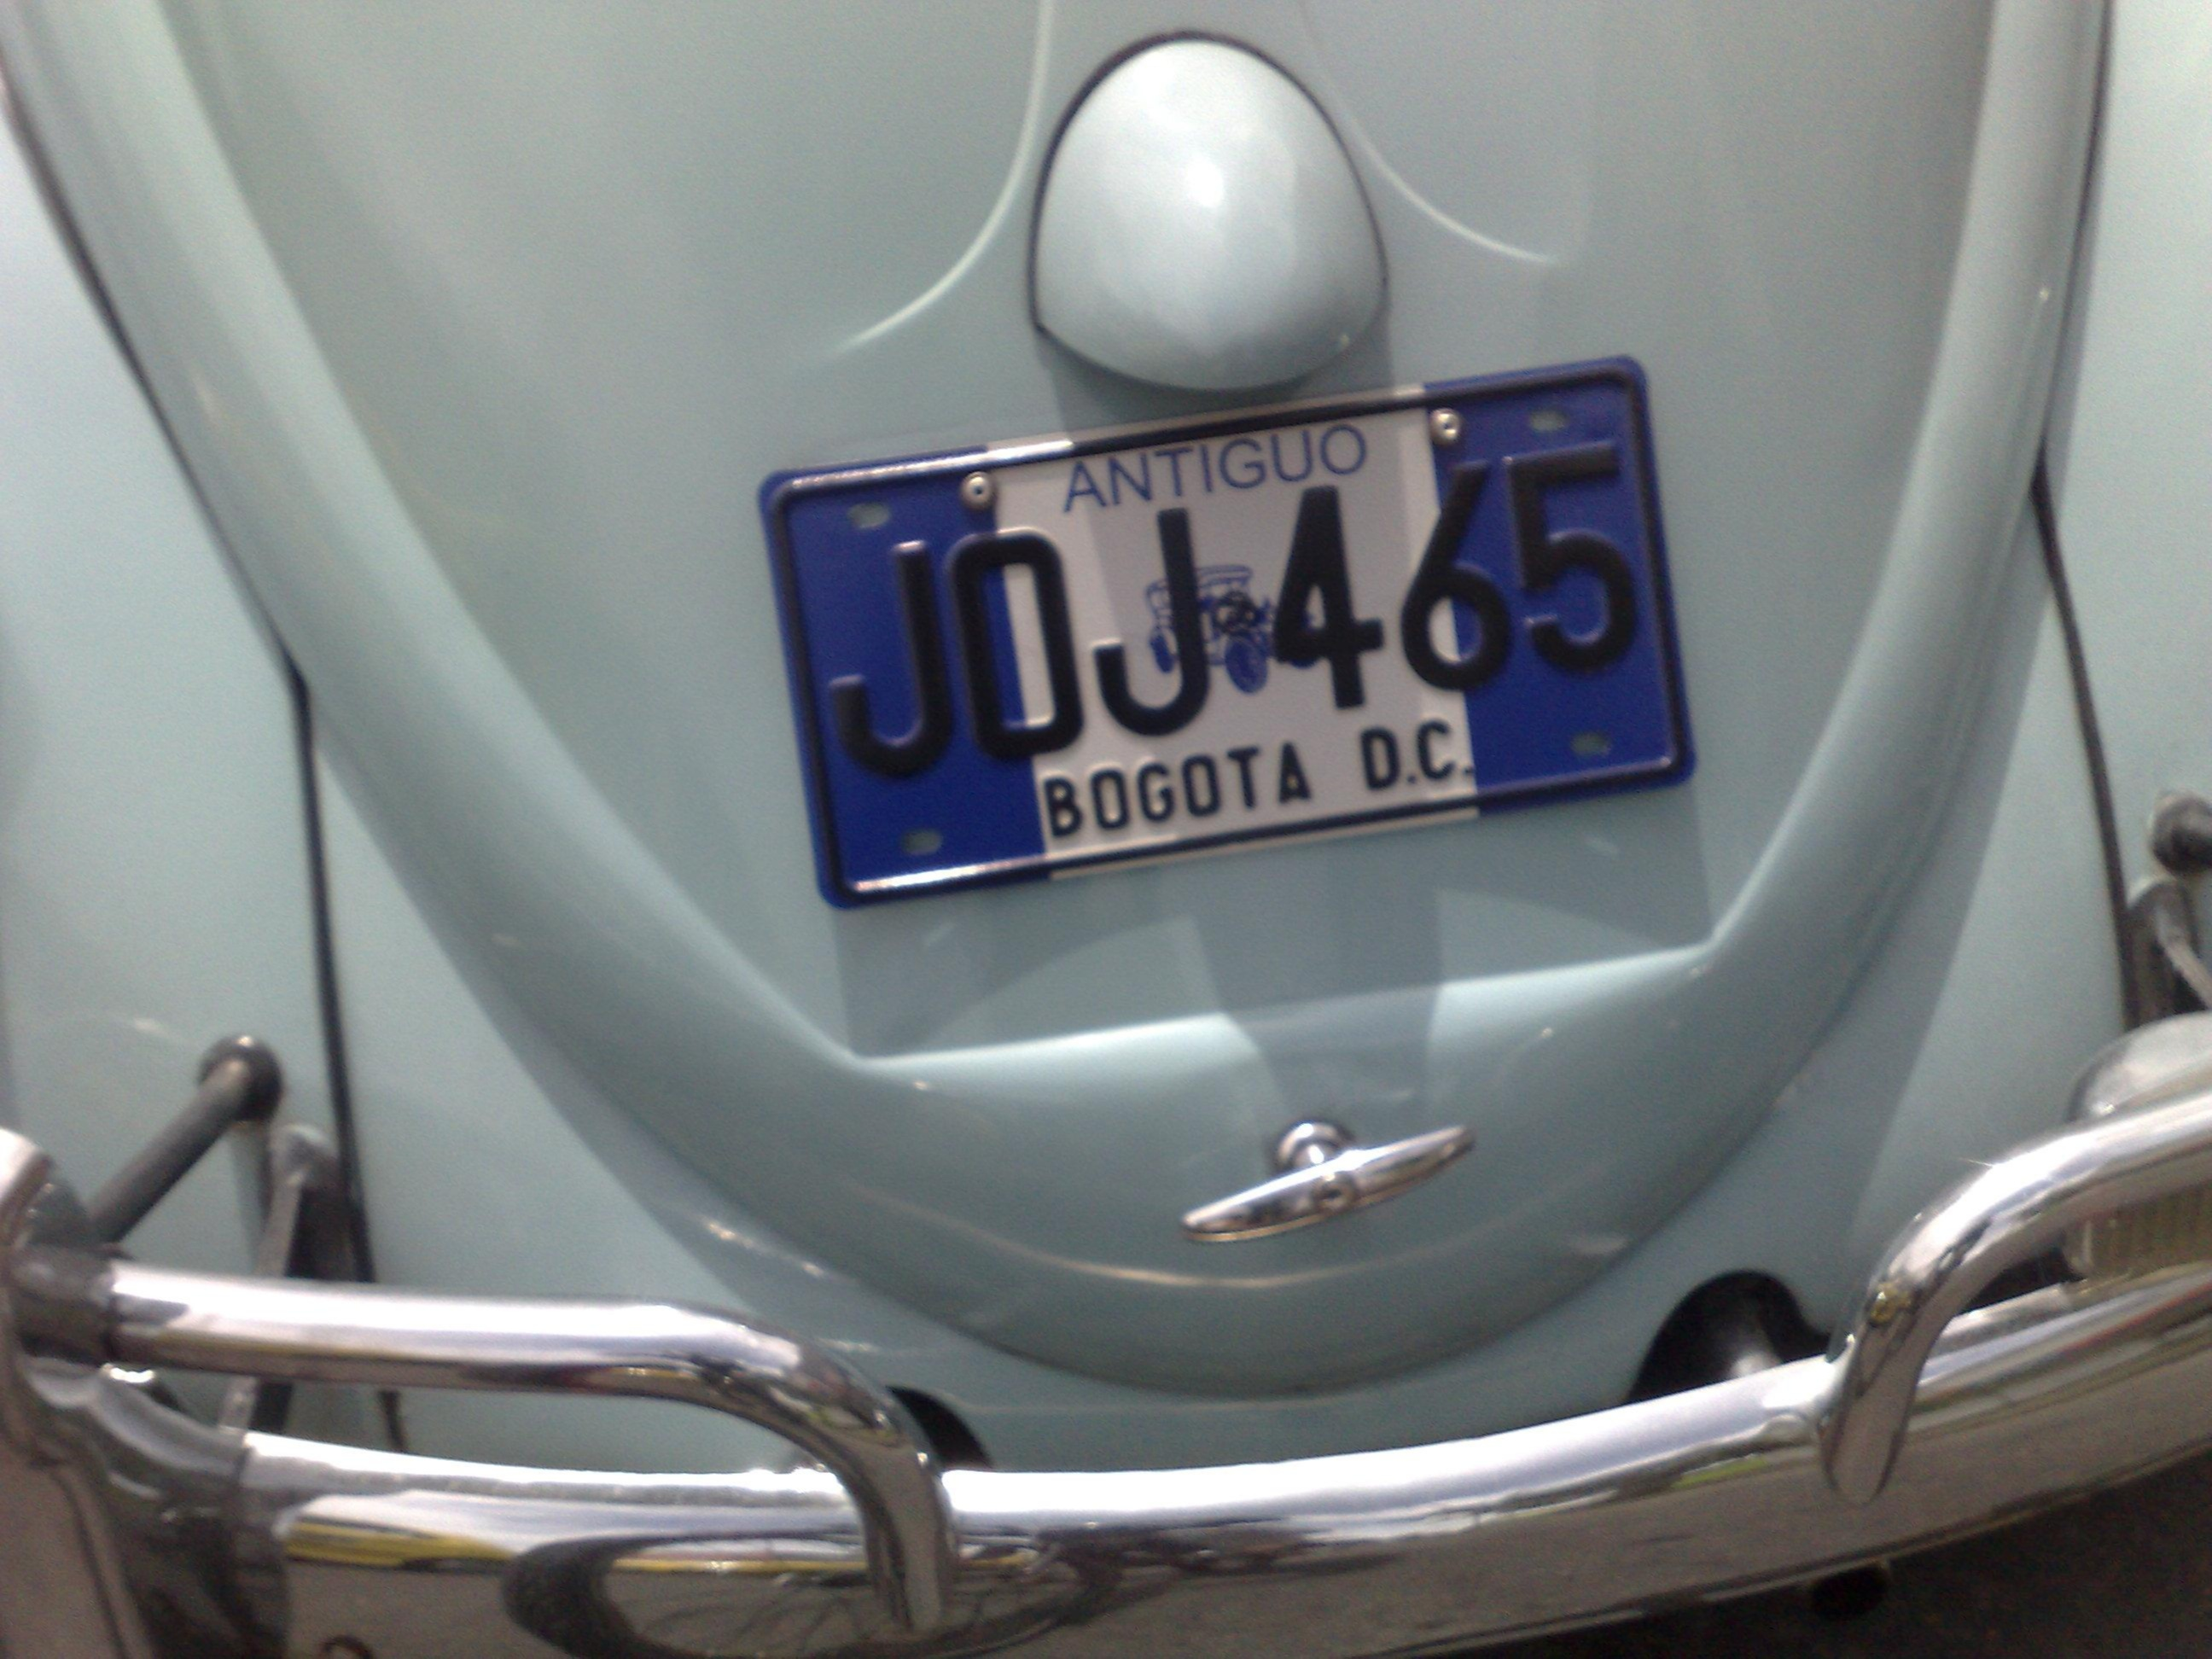placas: (750, 353, 1704, 917)
